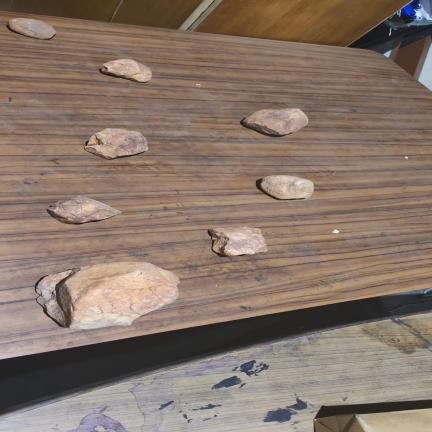Rocks: (36, 262, 179, 328), (48, 196, 121, 224), (85, 129, 148, 159), (243, 109, 308, 135), (209, 227, 267, 255), (260, 175, 314, 199), (101, 59, 151, 82), (8, 19, 56, 39)
